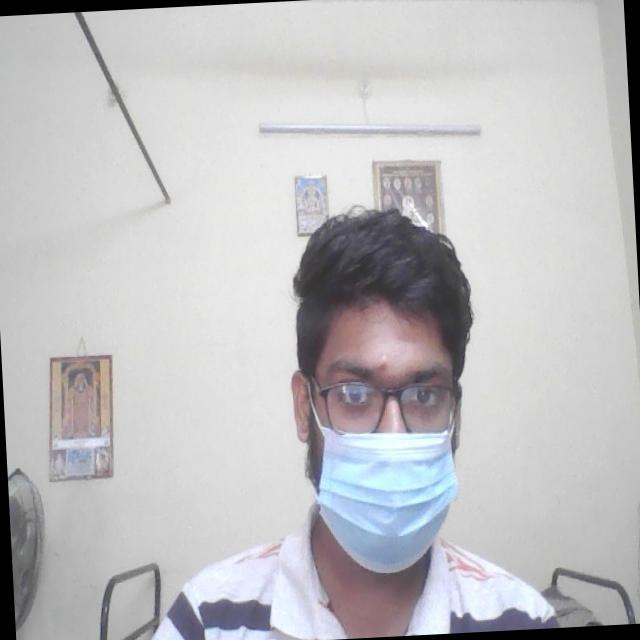Focused: (283, 290, 483, 552)
